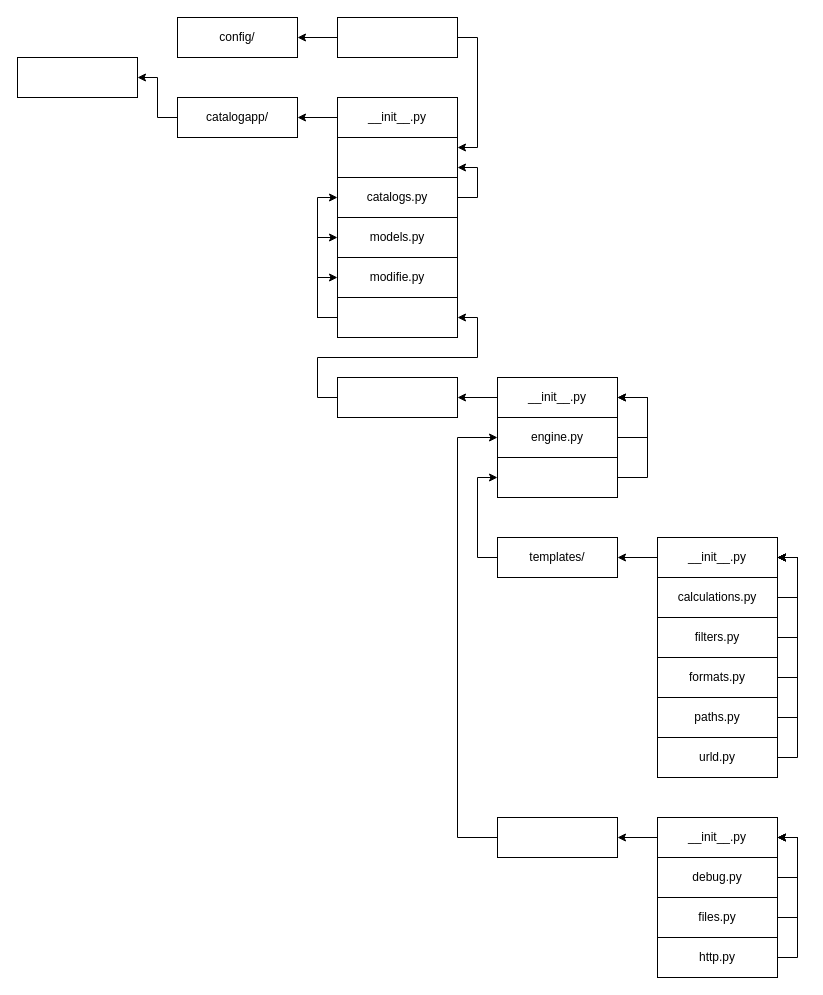
The diagram is 823 pixels wide and 995 high, and some of its shapes have lost their labels. Each missing label, with the centre of its shape:
assembly.py: pixel 397 157
base.py: pixel 397 317
cappengine/: pixel 397 397
entities.py: pixel 557 477
main: pixel 77 77
settings.py: pixel 397 37
utils/: pixel 557 837
